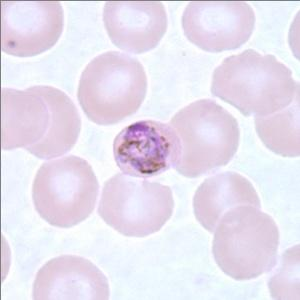Infected: (112, 118, 181, 180)
Uninfected: (164, 99, 238, 177), (75, 49, 147, 126), (211, 53, 297, 117), (213, 204, 278, 280), (95, 176, 174, 238), (32, 156, 99, 228), (22, 82, 78, 161), (193, 173, 260, 233), (253, 76, 300, 158), (181, 0, 255, 51), (0, 0, 64, 57), (34, 253, 109, 300), (104, 0, 168, 54), (0, 86, 48, 155)
